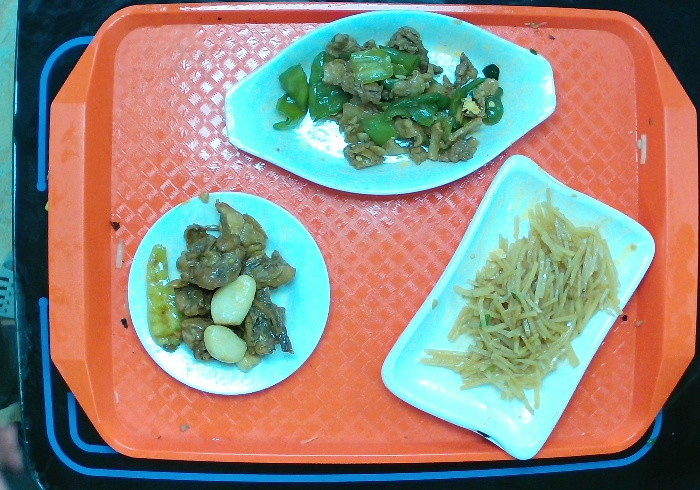RJxy-Si_Fang_Ao_Bian_Wan: (379, 152, 658, 465)
RJxy-Xiao_Yuan_Die: (124, 187, 334, 400)
RJxy-Yu_Pan: (221, 5, 561, 200)
